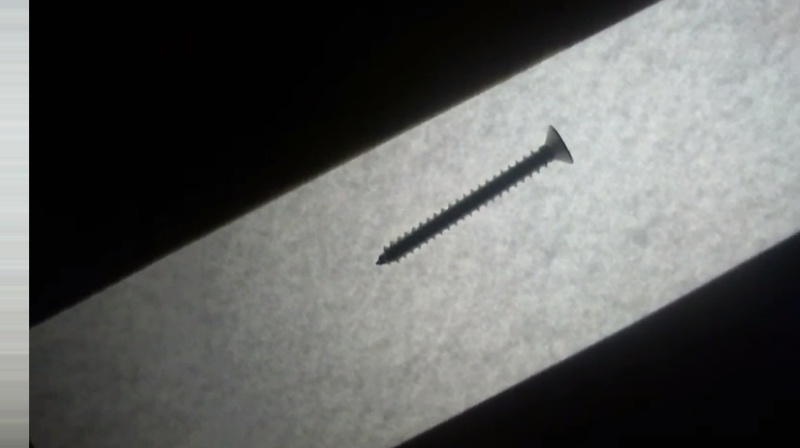S002: (372, 123, 577, 269)
